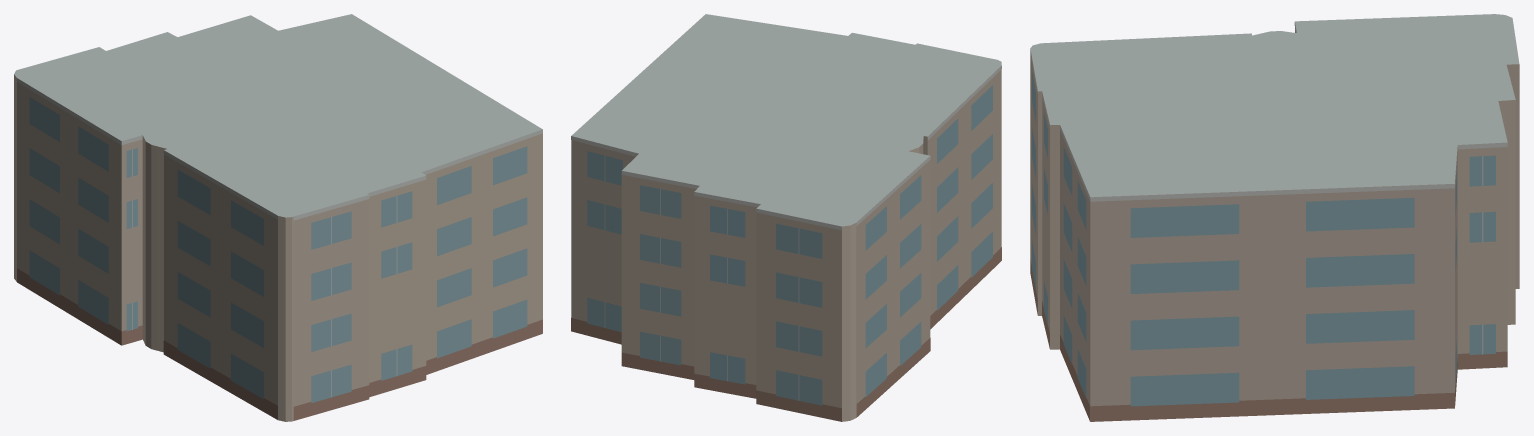
File: survey-upis-32979753.glb
3 renders of one model, left to right at view 1: azimuth 30°, elevation 25°; view 2: azimuth 150°, elevation 25°; view 3: azimuth 270°, elevation 25°, orthographic. The views are drawn at different scales.
Parts seen in each view (by area): view 1: survey-upis-32979753.tmp; view 2: survey-upis-32979753.tmp; view 3: survey-upis-32979753.tmp.
Part boxes in pixels (x1=…): survey-upis-32979753.tmp: x1=14, y1=14, x2=542, y2=421; survey-upis-32979753.tmp: x1=571, y1=14, x2=1001, y2=421; survey-upis-32979753.tmp: x1=1030, y1=14, x2=1519, y2=421.
Bounding box in the file's own units: 21.53 × 12.3 × 24.28.
